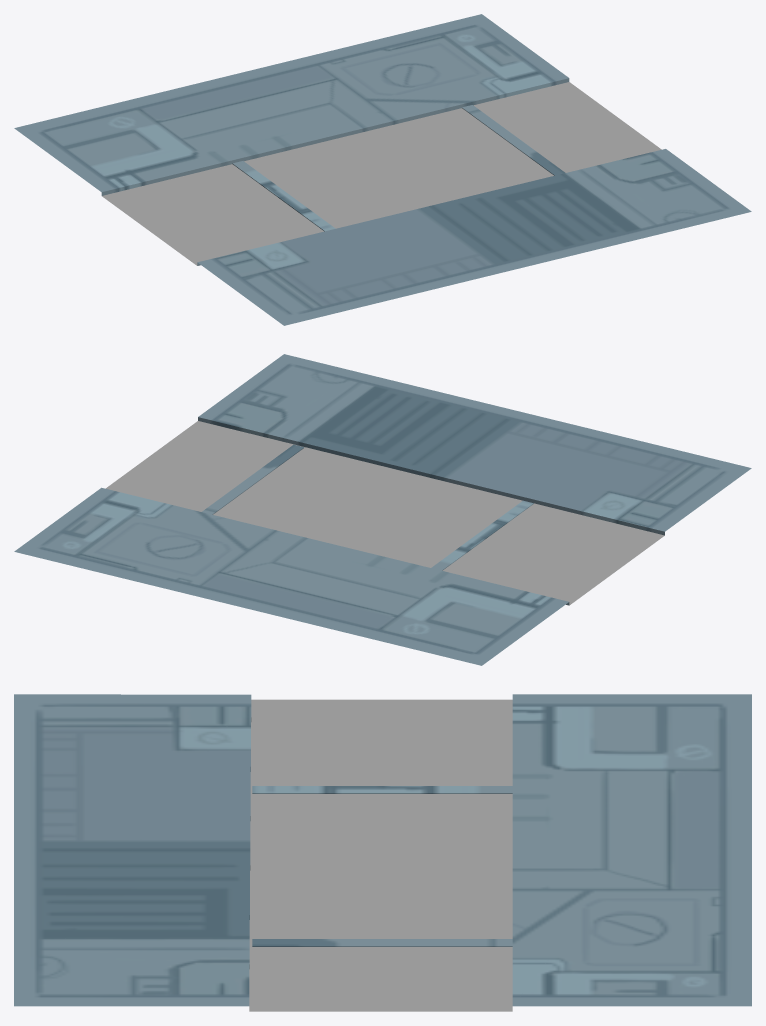
File: Floor1_2.fbx
3 views of the same model, one above another, from view 1: azimuth 30°, elevation 25°; view 2: azimuth 150°, elevation 25°; view 3: azimuth 270°, elevation 25° (orthographic). The views are drawn at different scales.
Visible parts, largest first — view 1: Floor1_2; view 2: Floor1_2; view 3: Floor1_2.
Boxes of the visible parts, box(x1,y1,x2,y2) form: Floor1_2: box(14, 14, 751, 325); Floor1_2: box(14, 354, 751, 665); Floor1_2: box(14, 694, 751, 1011).
Bounding box in the file's own units: 153 × 5.11 × 153.
